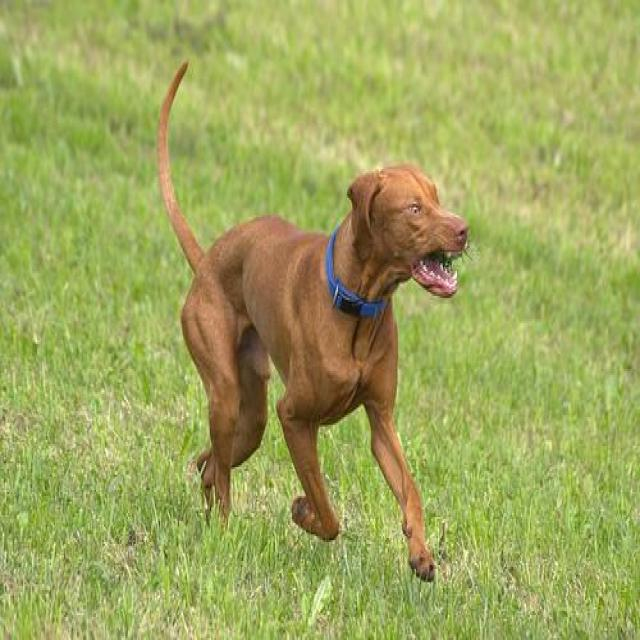vizsla: (156, 60, 469, 586)
